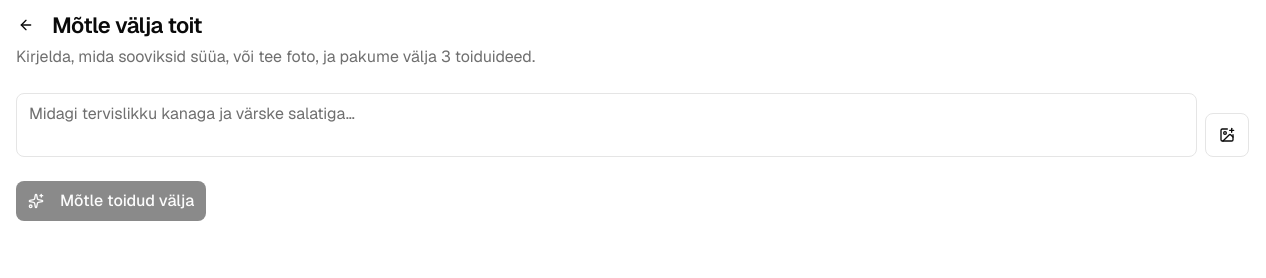
it: ImagineClient error localization › renders the Estonian timeout copy for a 504, not the server prose
Type "something with lentils" into the text box at coordinates (606, 125), box [16,93,1197,157]
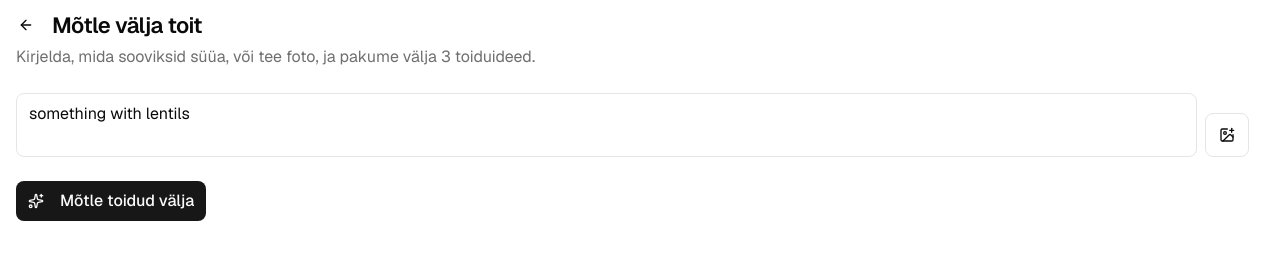
Click the button "Mõtle toidud välja" at coordinates (111, 201), box [16,181,206,221]
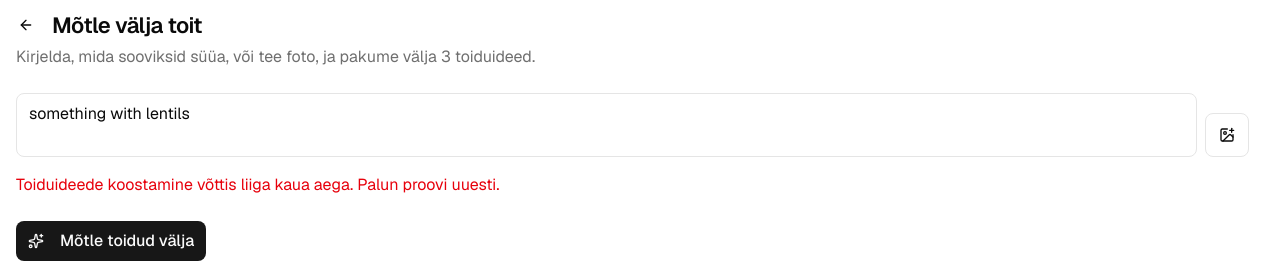
expect the text "Toiduideede koostamine võttis liiga kaua aega. Palun proovi uuesti." is shown: met, box [16,174,500,195]
